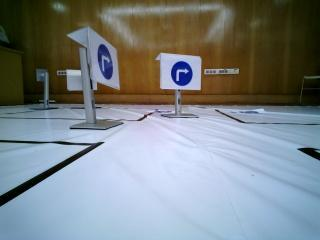right: (86, 30, 120, 90), (159, 54, 204, 90)
